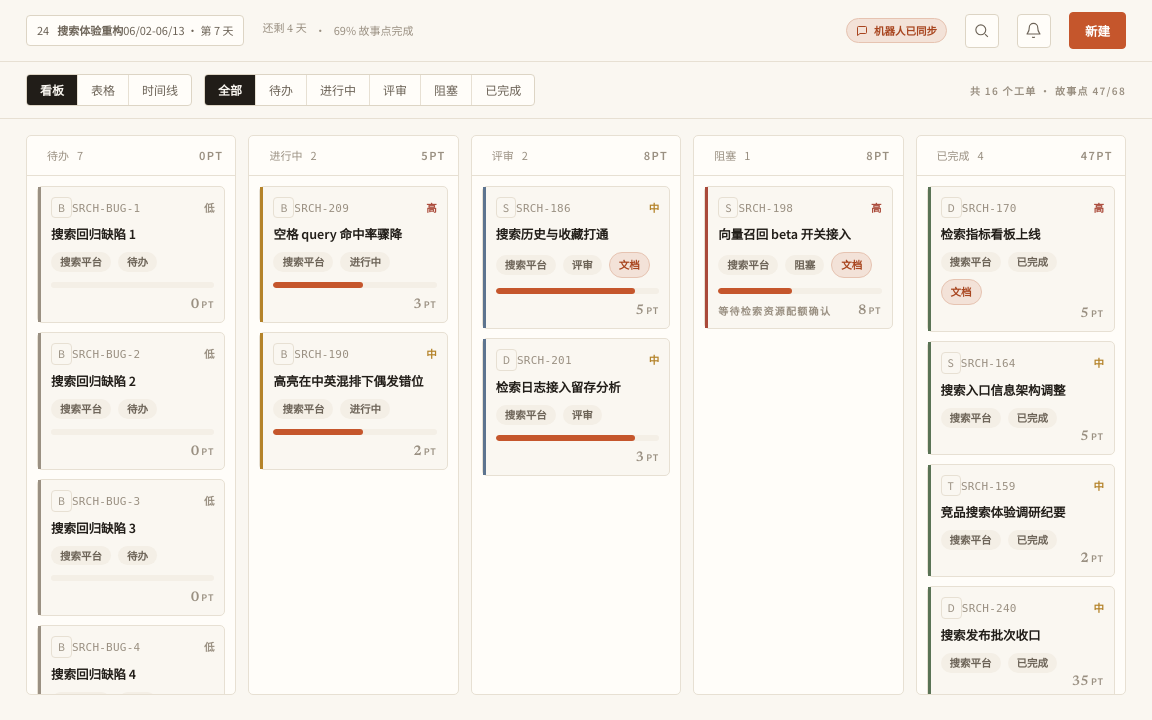
Test: issues ledger and board routes › filters board issues by status from real filter controls
Step 1. Click the button "阻塞" → (447, 90), box [421,75,472,105]
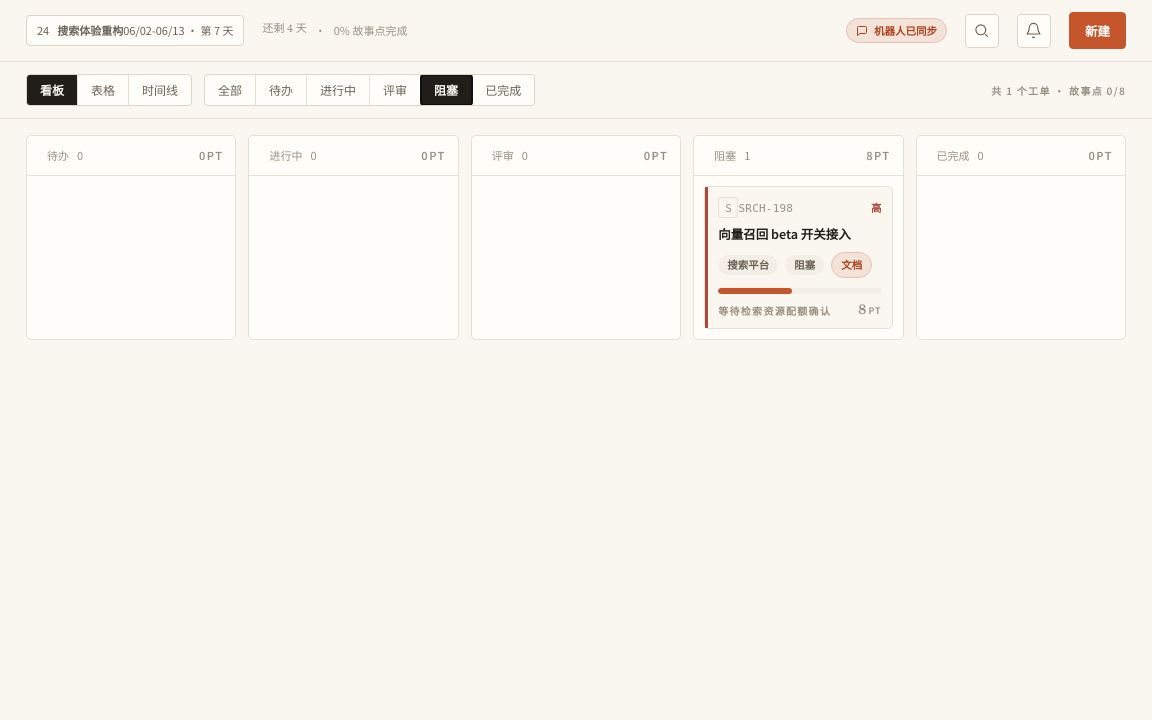
Check: the text "SRCH-186" is gone
Check: the text "SRCH-209" is gone
Check: the text "共 1 个工单 · 故事点 0/8" is shown, box [991,82,1126,98]
